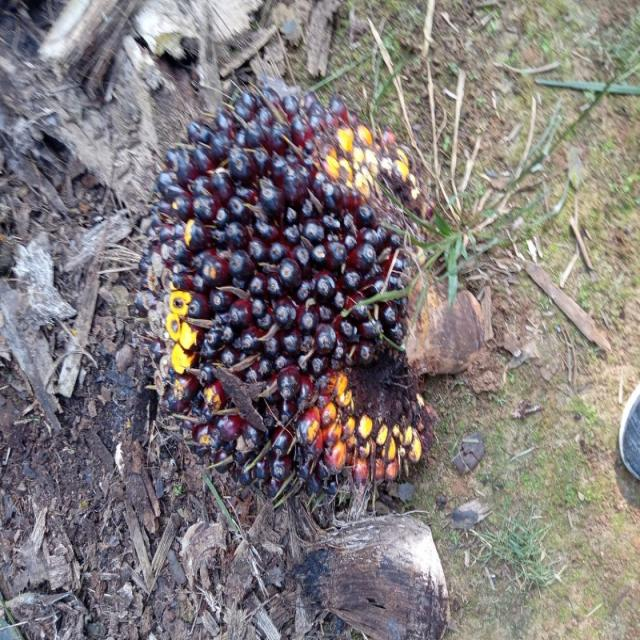fraksi 00: (101, 75, 481, 526)
